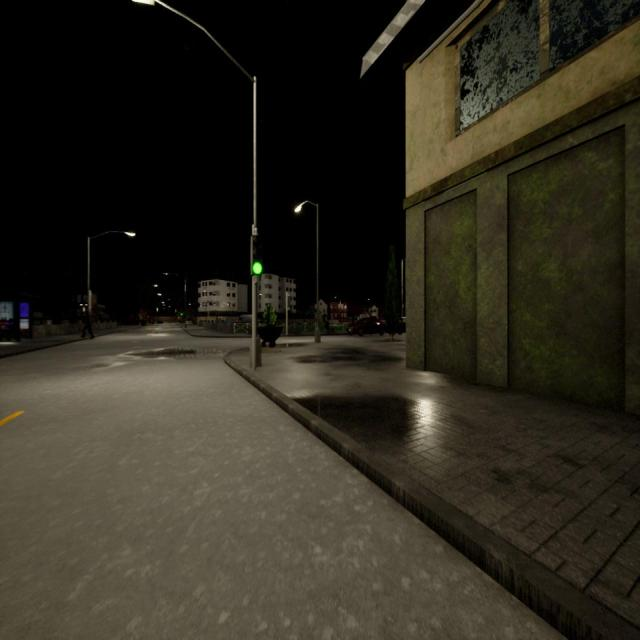Pedestrian: (81, 308, 94, 338)
Vehicle: (345, 315, 393, 338), (156, 318, 164, 324)
traffic_light: (252, 235, 264, 278), (180, 311, 183, 316)
